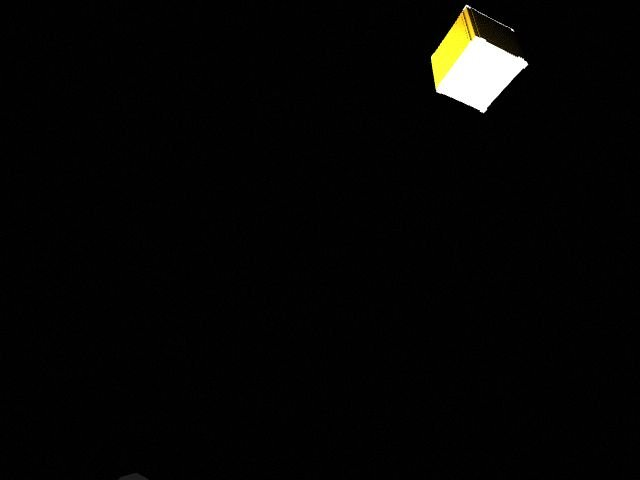cubesat: (421, 1, 534, 121)
